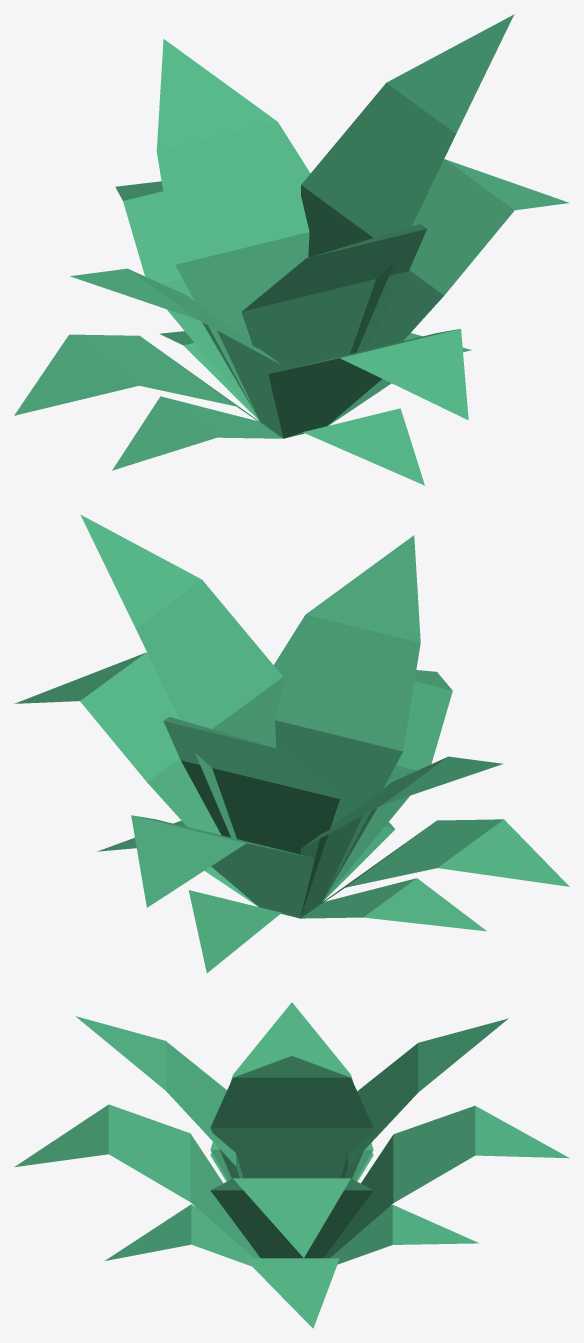
The model's file is bush_leafy.glb.
3 renders of one model, top to bottom at view 1: azimuth 30°, elevation 25°; view 2: azimuth 150°, elevation 25°; view 3: azimuth 270°, elevation 25°, orthographic. The views are drawn at different scales.
Parts seen in each view (by area): view 1: bush_leafy; view 2: bush_leafy; view 3: bush_leafy.
Part boxes in pixels (bbox=[...]): bush_leafy: bbox=[14, 14, 569, 485]; bush_leafy: bbox=[14, 514, 569, 972]; bush_leafy: bbox=[14, 1002, 569, 1328].
Bounding box in the file's own units: 0.6025 × 0.3604 × 0.6025.
